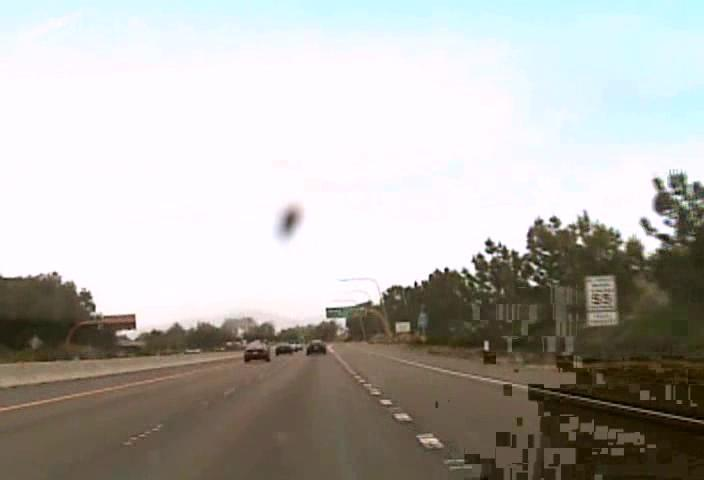truckSpeedLimit55: (583, 273, 620, 327)
